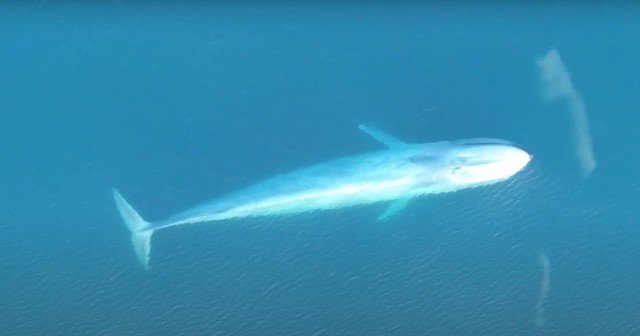whale: (101, 117, 537, 281)
